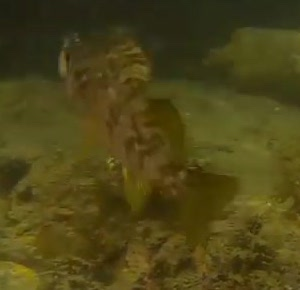mebaru: (48, 21, 195, 210)
